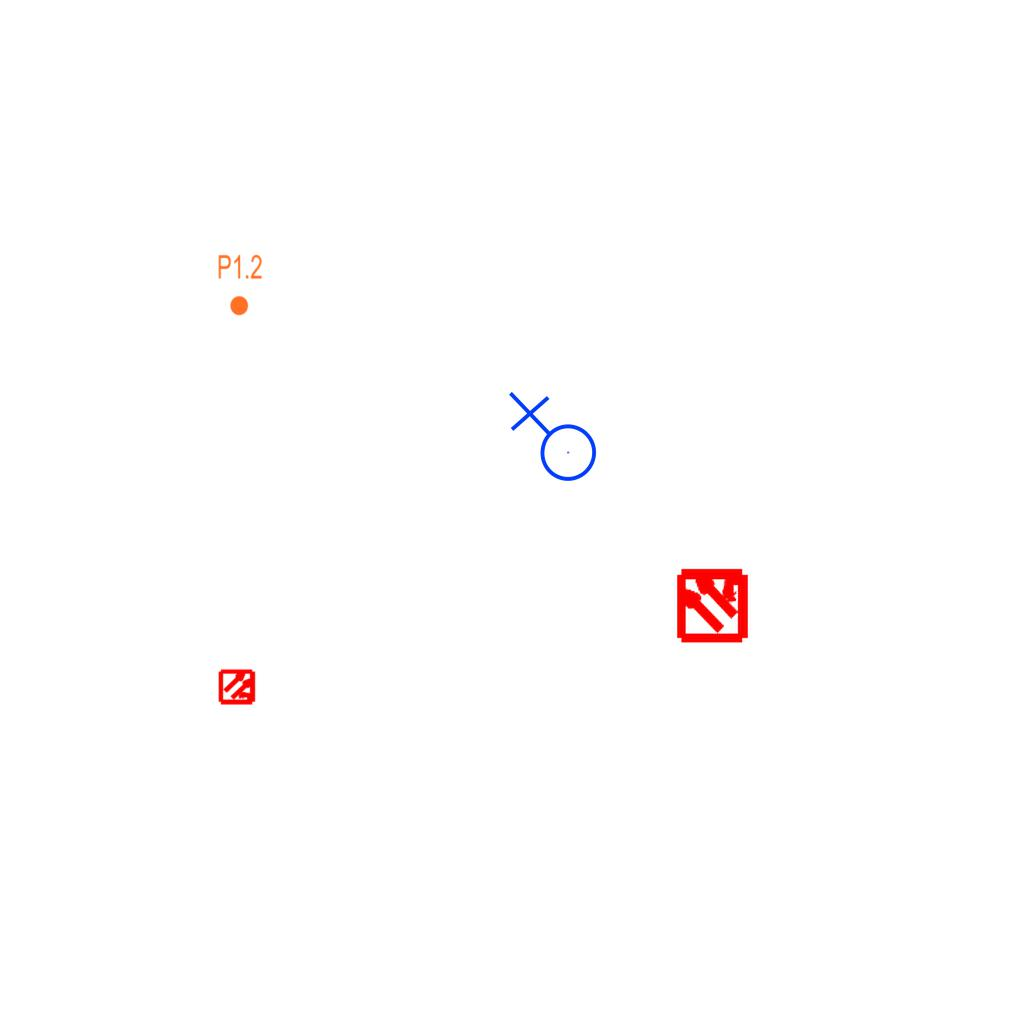Downlight_LED_Einbauleuchten_Flur: (217, 253, 263, 317)
Elektroanschluss_allgemein_230V_Geraeteanschlussdose_230V: (504, 391, 598, 490)
OT_Multisensormelder_(Kombination_RMO_WMD): (656, 547, 769, 660), (210, 659, 266, 715)
